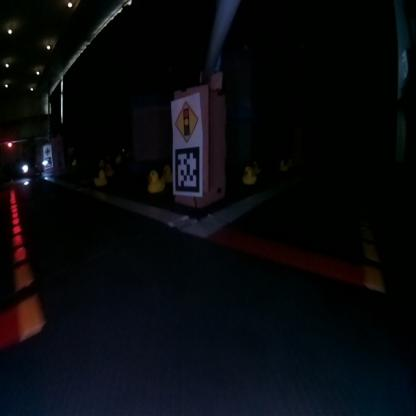Duckie: (147, 170, 163, 191), (242, 166, 254, 184), (162, 165, 172, 184), (93, 170, 105, 185), (104, 165, 112, 175)
Duckiebot: (14, 156, 44, 176)
QR code: (175, 146, 201, 192), (43, 156, 52, 166)
Signal sign: (173, 100, 199, 142)
